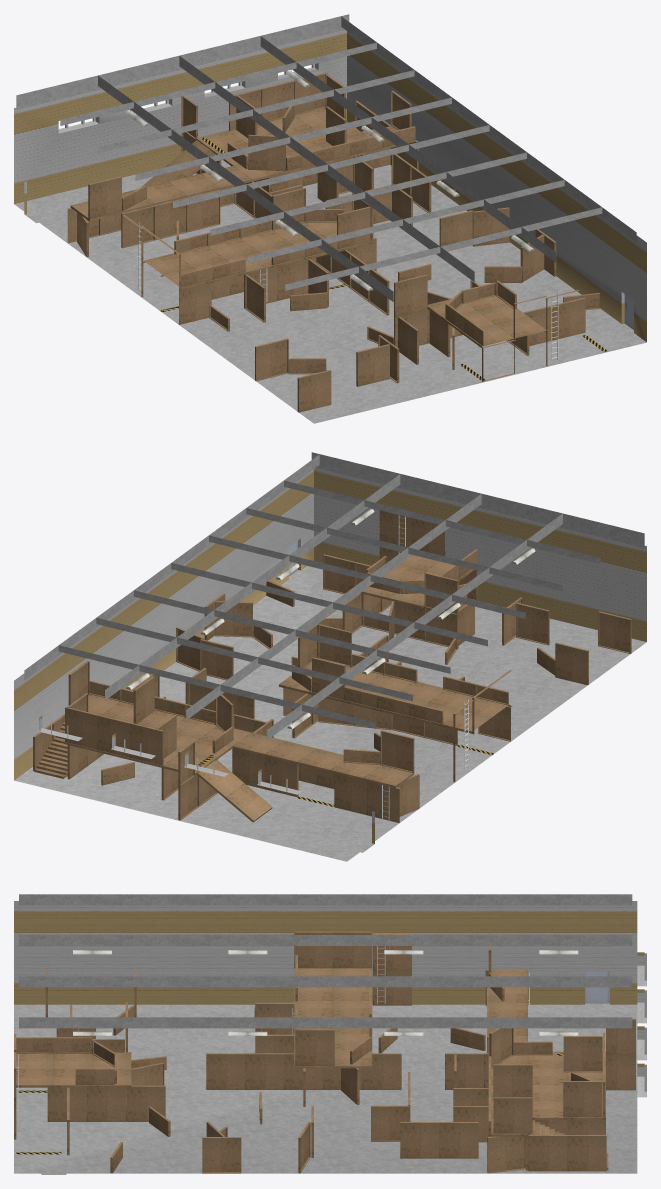
The model's file is Wallbang.glb.
The picture shows the model from 3 angles, top to bottom: view 1: azimuth 30°, elevation 25°; view 2: azimuth 150°, elevation 25°; view 3: azimuth 270°, elevation 25°; orthographic projection. The views are drawn at different scales.
Parts seen in each view (by area): view 1: Wallbang; view 2: Wallbang; view 3: Wallbang.
Boxes of the visible parts, x1=… form: Wallbang: x1=14, y1=14, x2=646, y2=423; Wallbang: x1=14, y1=452, x2=646, y2=861; Wallbang: x1=14, y1=894, x2=646, y2=1174.
Size of the model in its own units: 22.7 by 7.08 by 35.39.
Materials: 9 (8 with a texture image).
